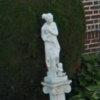Statue: (26, 8, 75, 100)
